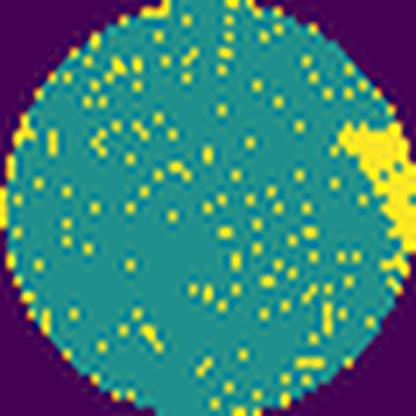Edge-Loc: (339, 122, 416, 287)
